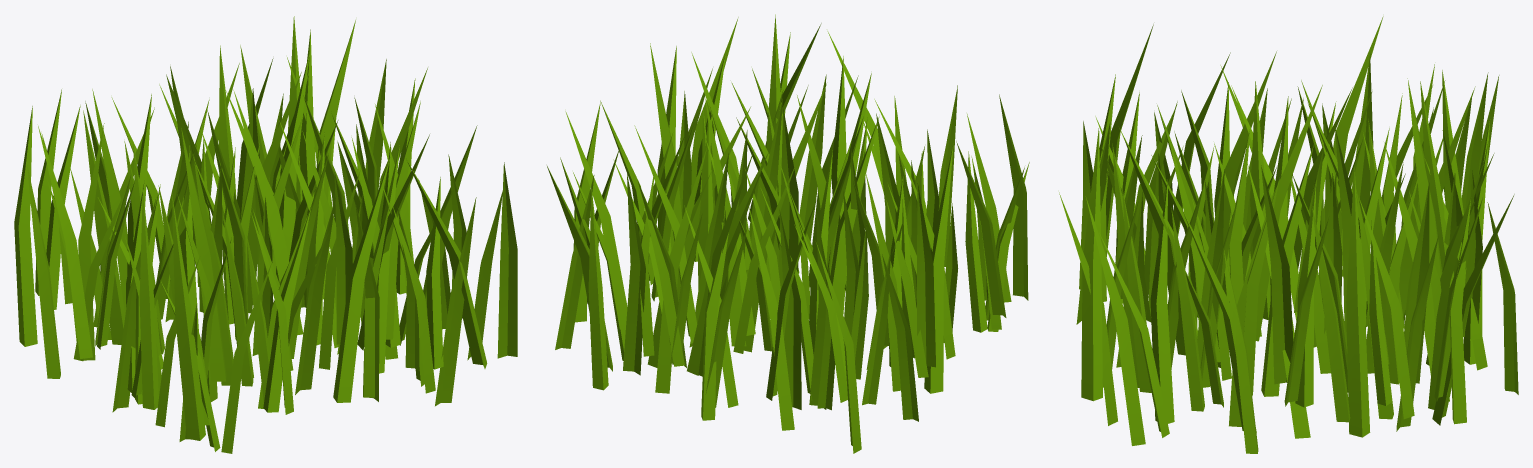
File: shortGrass.fbx
3 views of the same model, side by side, from view 1: azimuth 30°, elevation 25°; view 2: azimuth 150°, elevation 25°; view 3: azimuth 270°, elevation 25° (orthographic). The views are drawn at different scales.
Parts seen in each view (by area): view 1: polySurfaceShape18_MASH1_Instancer_0; view 2: polySurfaceShape18_MASH1_Instancer_0; view 3: polySurfaceShape18_MASH1_Instancer_0.
Part boxes in pixels (<box>): polySurfaceShape18_MASH1_Instancer_0: <box>14,16,517,453</box>; polySurfaceShape18_MASH1_Instancer_0: <box>547,14,1029,453</box>; polySurfaceShape18_MASH1_Instancer_0: <box>1059,16,1518,453</box>.
Size of the model in its own units: 8.94 by 6.58 by 9.37.
